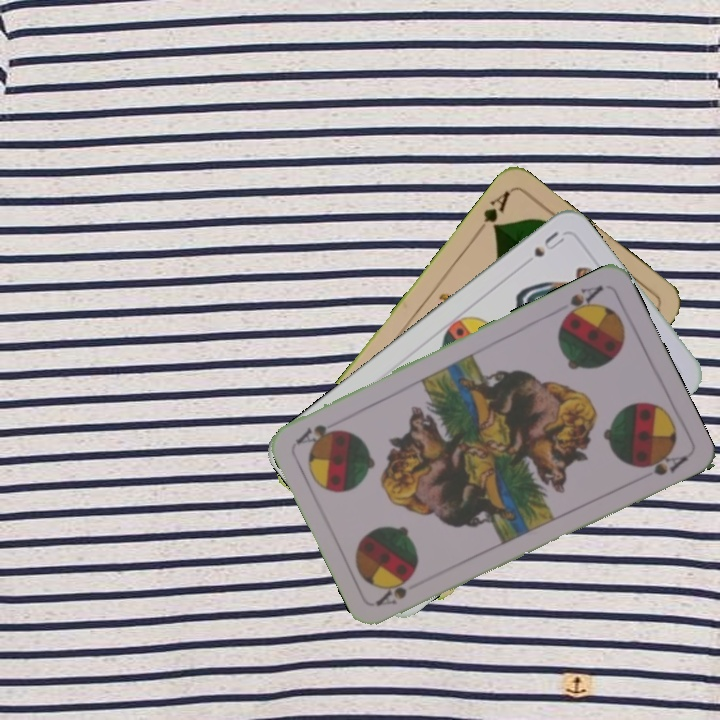GA: (471, 186, 513, 238)
SA: (558, 281, 606, 324), (372, 582, 410, 609)
SU: (529, 227, 567, 260)
